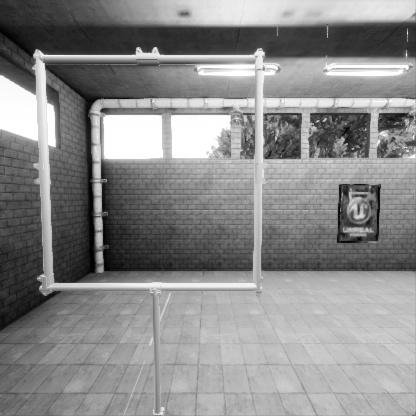gate: (32, 130, 284, 378)
